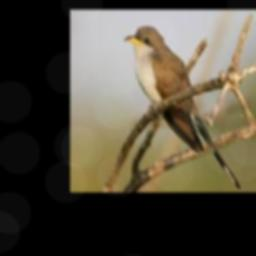Cuckoo: (124, 25, 240, 188)
